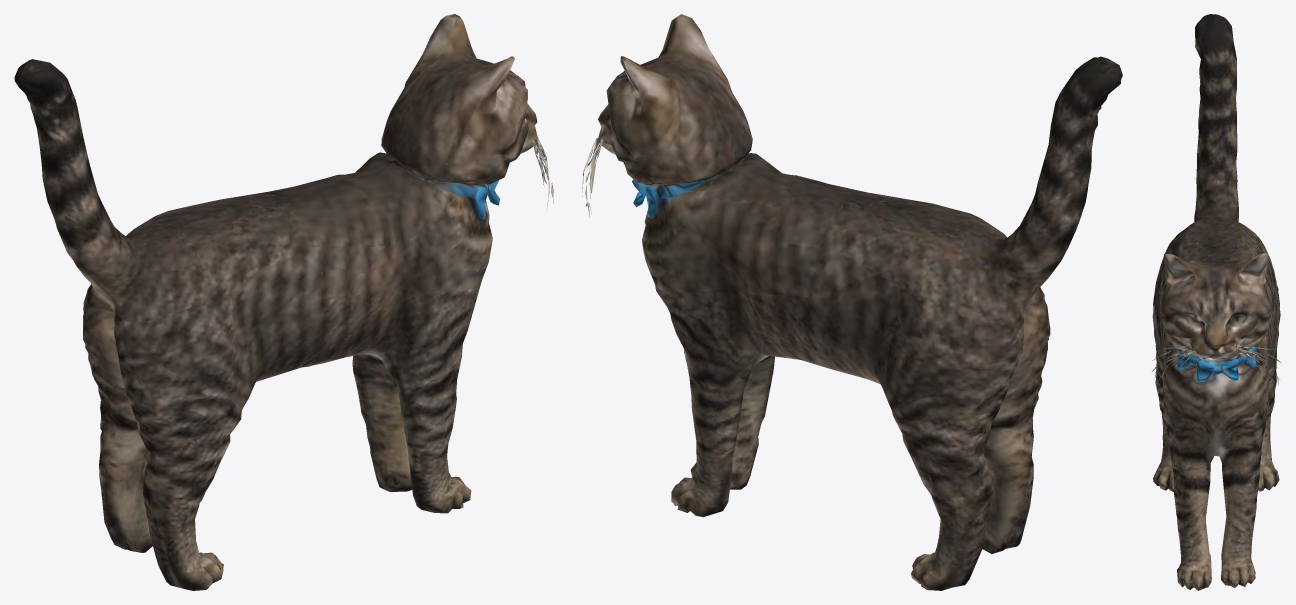
Rendered from KING-lo.glb.
3 renders of one model, left to right at view 1: azimuth 30°, elevation 25°; view 2: azimuth 150°, elevation 25°; view 3: azimuth 270°, elevation 25°, orthographic. The views are drawn at different scales.
Parts seen in each view (by area): view 1: tripo_node_4eae2a22-ae91-48b8-aa05-fd0d7338a084; view 2: tripo_node_4eae2a22-ae91-48b8-aa05-fd0d7338a084; view 3: tripo_node_4eae2a22-ae91-48b8-aa05-fd0d7338a084.
Part boxes in pixels (x1,y1,x2,y2): tripo_node_4eae2a22-ae91-48b8-aa05-fd0d7338a084: (14, 14, 553, 590); tripo_node_4eae2a22-ae91-48b8-aa05-fd0d7338a084: (582, 14, 1122, 590); tripo_node_4eae2a22-ae91-48b8-aa05-fd0d7338a084: (1152, 14, 1281, 590).
Bounding box in the file's own units: 1.01 × 0.9998 × 0.2821.
1 material, 1 textured.
